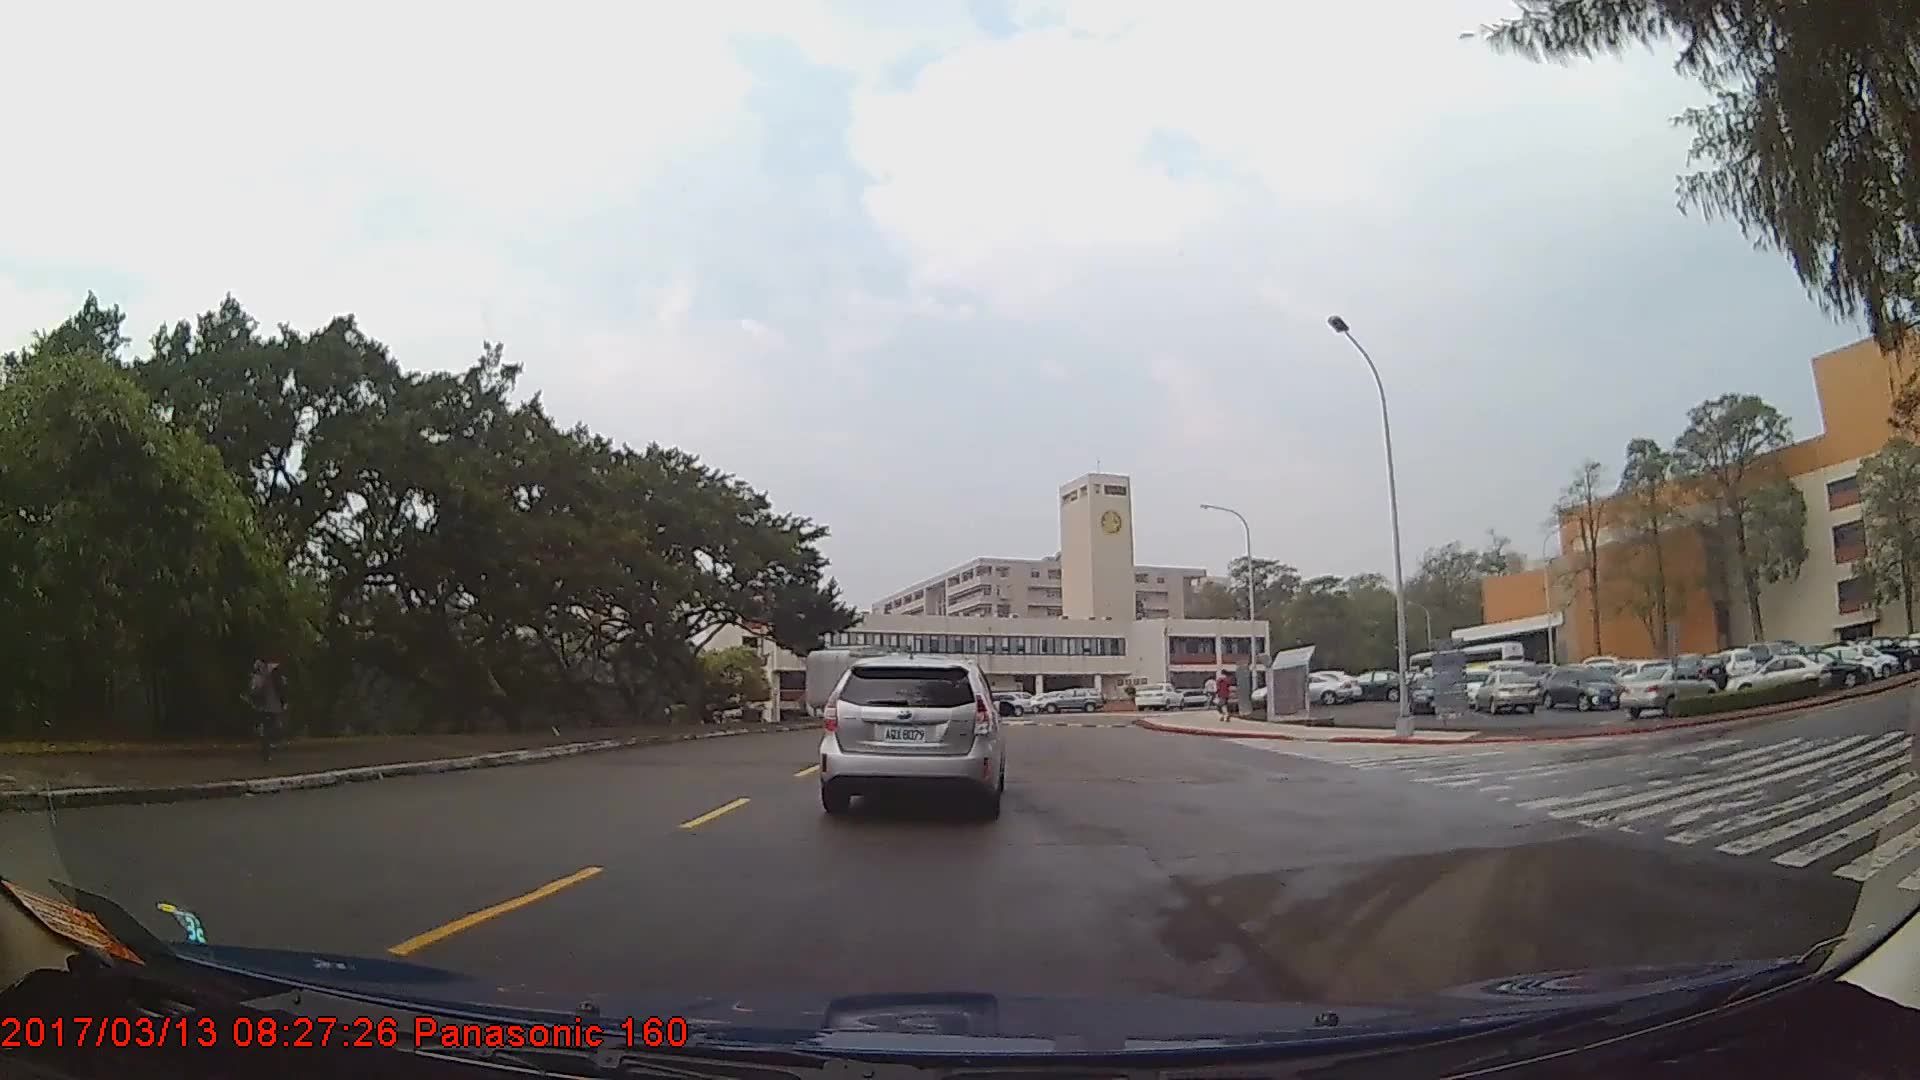pedestrian: (234, 646, 286, 765), (1214, 667, 1235, 723)
vehicle: (817, 652, 1002, 815), (1723, 649, 1829, 701), (1620, 662, 1715, 718), (1773, 645, 1868, 690), (1543, 663, 1626, 712), (1250, 672, 1346, 708), (1477, 669, 1539, 716), (1343, 668, 1410, 703), (1405, 675, 1452, 716), (1038, 686, 1107, 713), (1132, 680, 1183, 713), (976, 691, 1033, 716)
